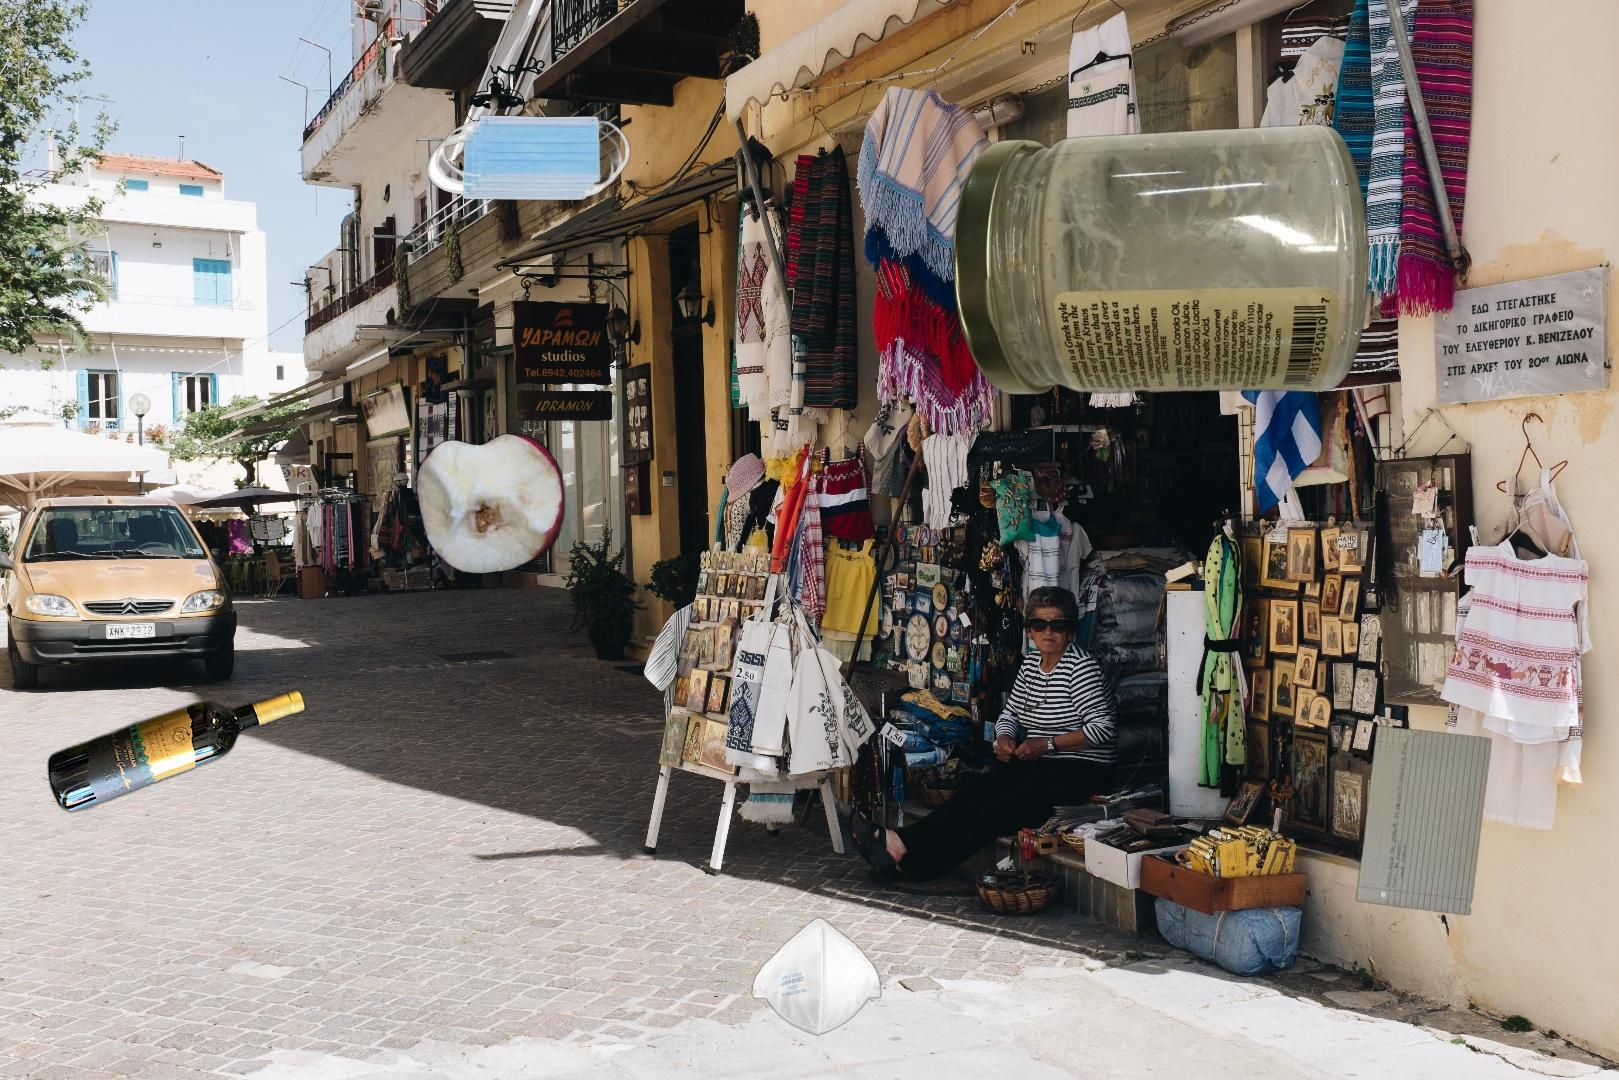biological: (413, 432, 568, 577)
glass: (949, 117, 1374, 398), (43, 683, 310, 818)
paper: (1351, 722, 1496, 918)
trash: (424, 112, 633, 202), (749, 915, 884, 1038)
